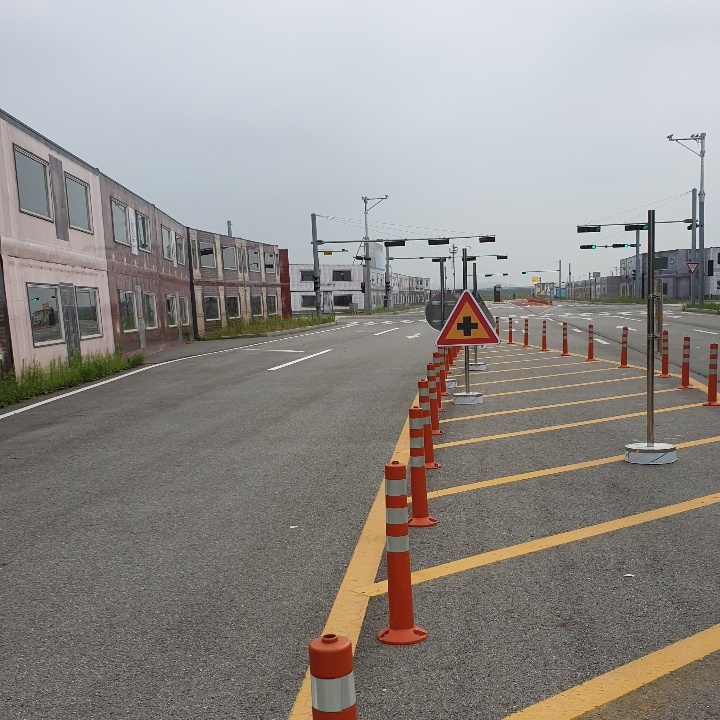inter: (454, 311, 480, 339)
